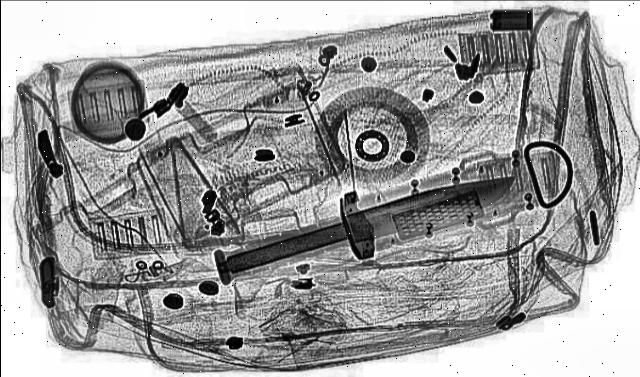Knife: (170, 147, 548, 301)
